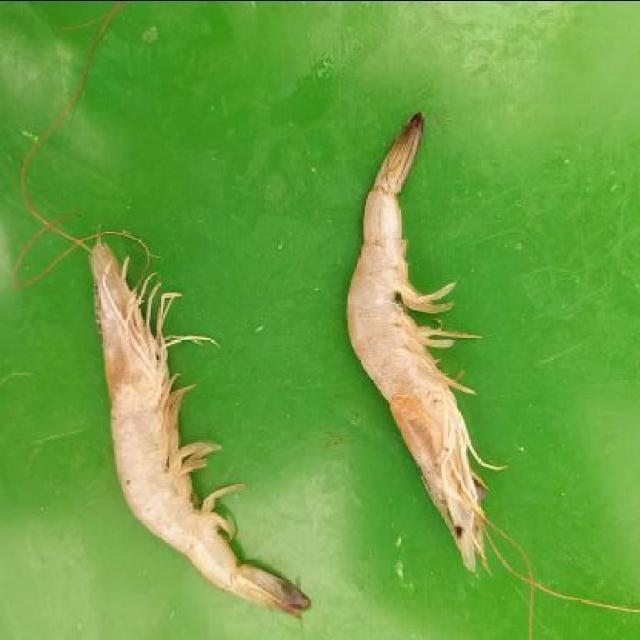shrimp: (80, 222, 314, 620), (341, 103, 486, 582)
